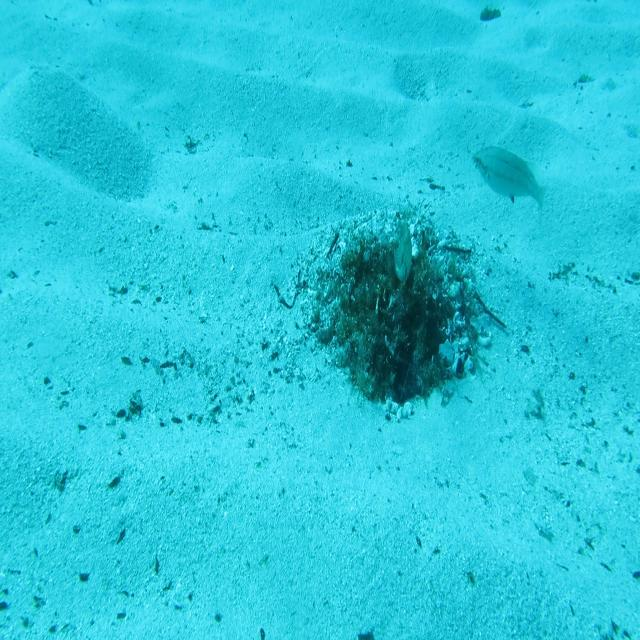NIP_CORE: (389, 216, 413, 286)
core_nest: (366, 256, 405, 288)
female: (469, 140, 551, 227)
nest: (281, 189, 495, 436)
vegetation: (478, 7, 504, 24)
